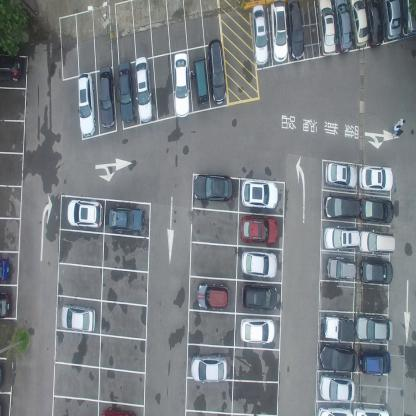car: (207, 36, 227, 106), (284, 0, 304, 63), (332, 0, 354, 56), (192, 172, 233, 202), (136, 55, 154, 123), (78, 71, 96, 137), (316, 0, 336, 59), (270, 0, 288, 64), (241, 178, 278, 209), (241, 212, 278, 243), (173, 51, 190, 118), (189, 353, 228, 382), (347, 0, 369, 51), (66, 198, 103, 228), (319, 343, 358, 371), (98, 64, 115, 128), (241, 246, 277, 276), (60, 303, 96, 333), (241, 282, 278, 311), (356, 313, 393, 342), (118, 60, 135, 123), (251, 3, 268, 66), (319, 373, 355, 402), (108, 206, 144, 234), (322, 312, 355, 342), (359, 164, 393, 193), (323, 194, 362, 219), (360, 196, 393, 225), (358, 346, 391, 375), (196, 283, 230, 311), (324, 160, 358, 188), (240, 317, 275, 344), (192, 56, 210, 108), (359, 229, 395, 255), (323, 225, 359, 250), (366, 0, 384, 49), (360, 258, 393, 284), (326, 255, 356, 282), (384, 0, 401, 44), (0, 52, 22, 82), (402, 0, 416, 38), (316, 406, 354, 416), (100, 405, 137, 415), (0, 290, 12, 319), (353, 407, 389, 415), (0, 255, 10, 283)
